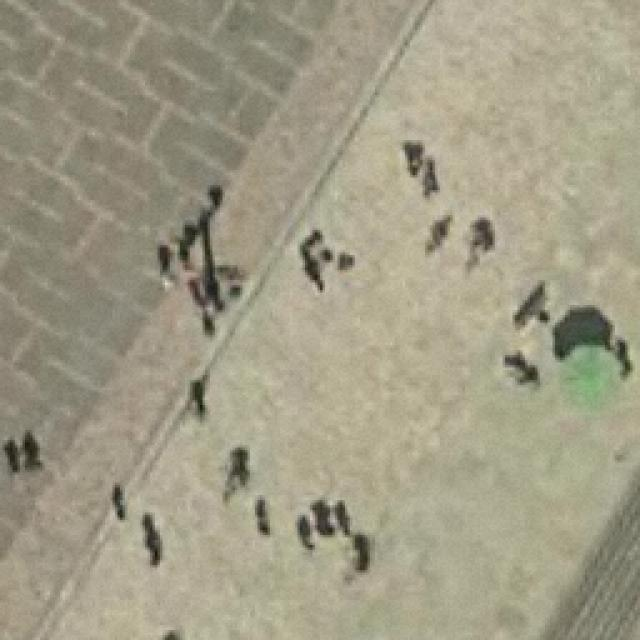vendedor_ambulante: (555, 340, 627, 413)
